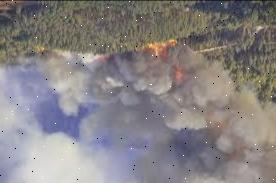fire: (132, 32, 184, 84)
